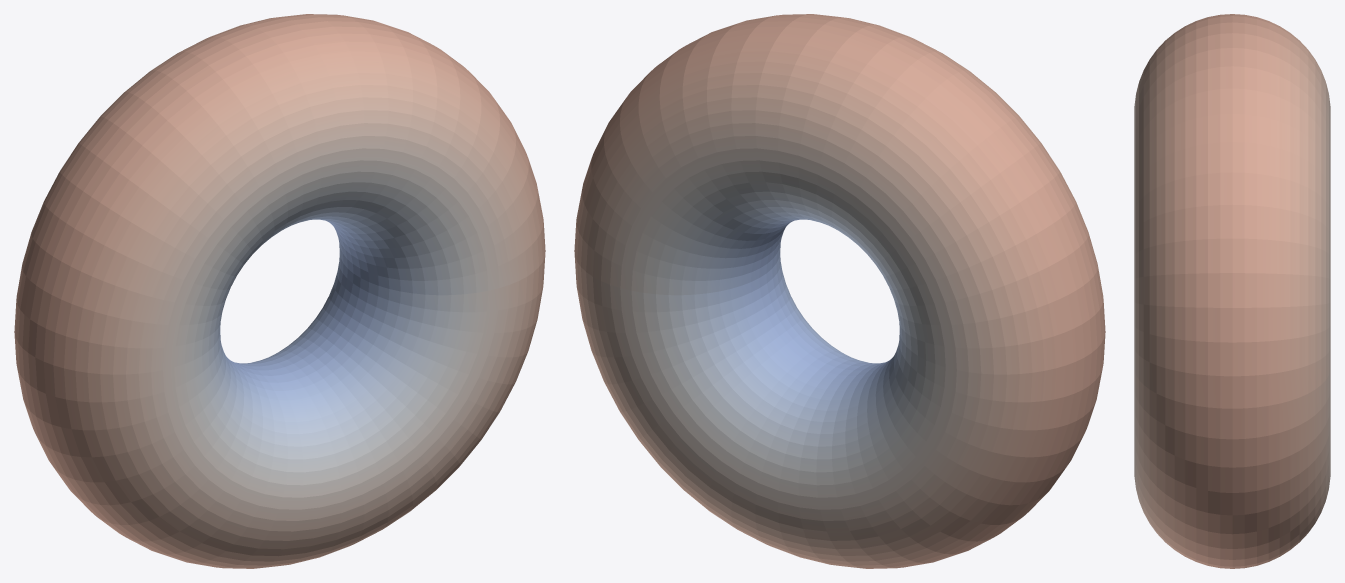
3 renders of one model, left to right at view 1: azimuth 30°, elevation 25°; view 2: azimuth 150°, elevation 25°; view 3: azimuth 270°, elevation 25°, orthographic. The views are drawn at different scales.
Parts seen in each view (by area): view 1: world; view 2: world; view 3: world.
Boxes of the visible parts, x1,y1,x2,y2 form: world: (14,14,545,568); world: (574,14,1105,568); world: (1134,14,1330,568).
Size of the model in its own units: 23.73 by 23.69 by 8.38.
